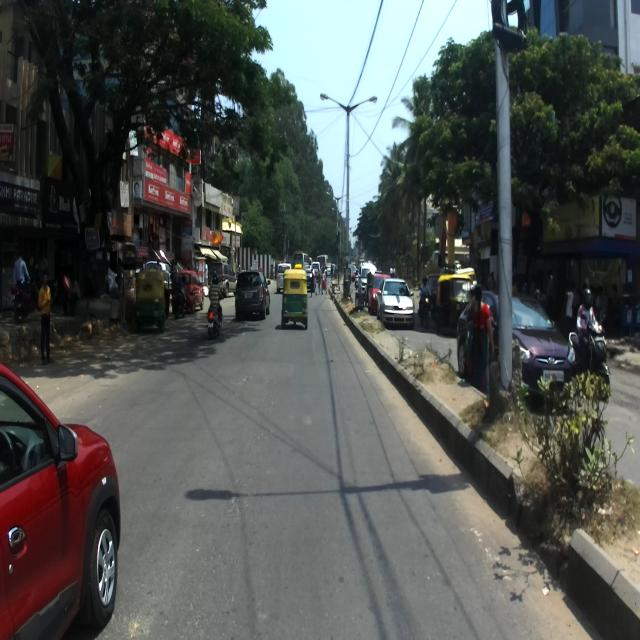car ahead at: (0, 356, 124, 640)
